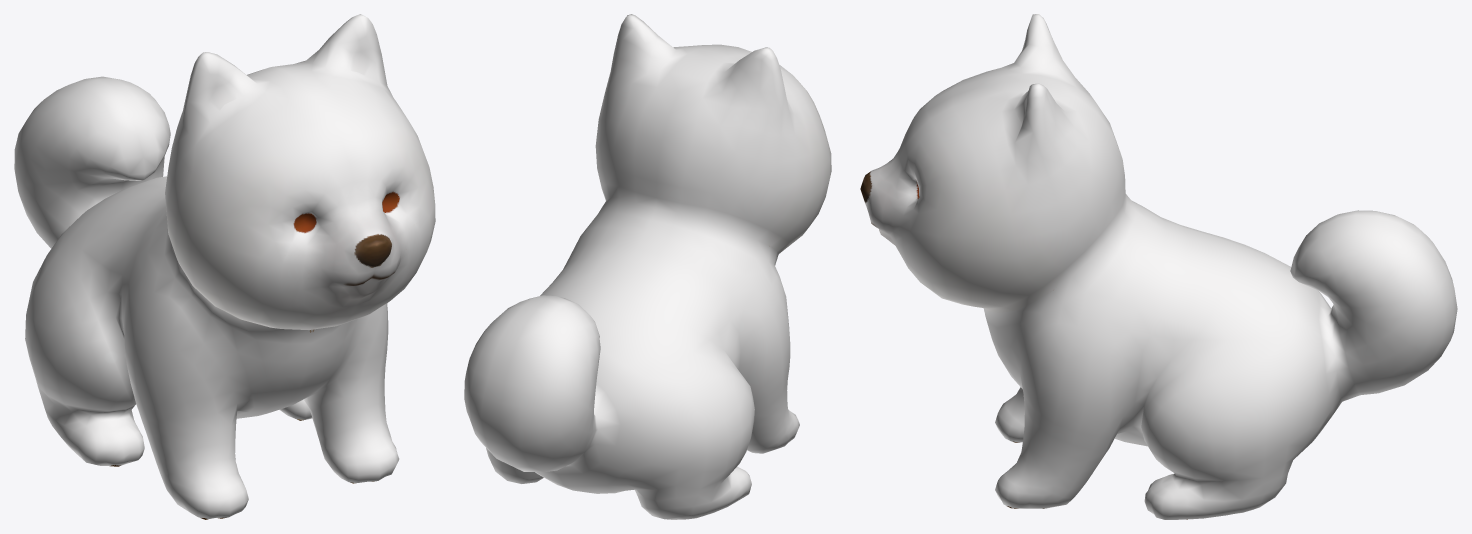
Rendered from Pomeranian_Mirror.fbx.
3 views of the same model, side by side, from view 1: azimuth 30°, elevation 25°; view 2: azimuth 150°, elevation 25°; view 3: azimuth 270°, elevation 25° (orthographic). The views are drawn at different scales.
Visible parts, largest first — view 1: Dog Lv3.001; view 2: Dog Lv3.001; view 3: Dog Lv3.001.
Part boxes in pixels (left/top/right/bottom): Dog Lv3.001: left=14, top=14, right=435, bottom=519; Dog Lv3.001: left=464, top=14, right=831, bottom=519; Dog Lv3.001: left=860, top=14, right=1457, bottom=519.
Size of the model in its own units: 299 by 448 by 576.
